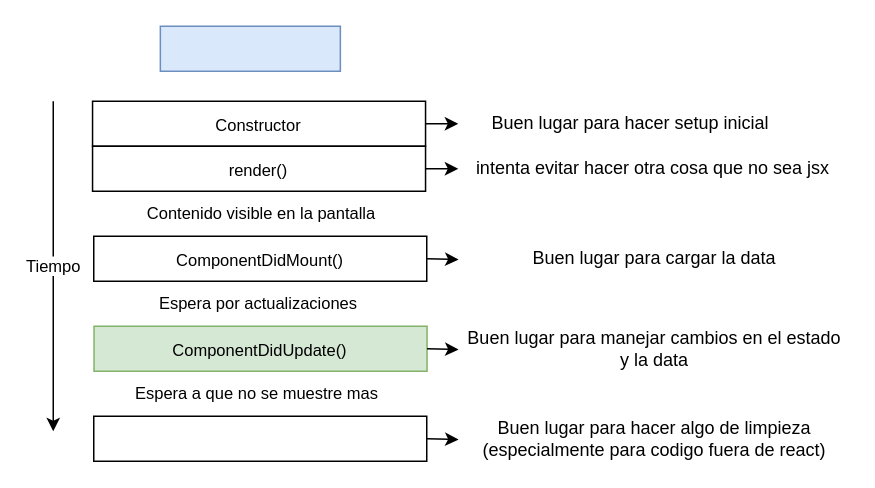
Some shapes in this 875 by 488 pixel diagram are drawn without their labels. Here are the shapes that lost their labels. From the top down, the box of each, then its label:
(159, 25, 340, 71): Ciclo de vida
(92, 415, 427, 461): ComponentDidUnmount()
